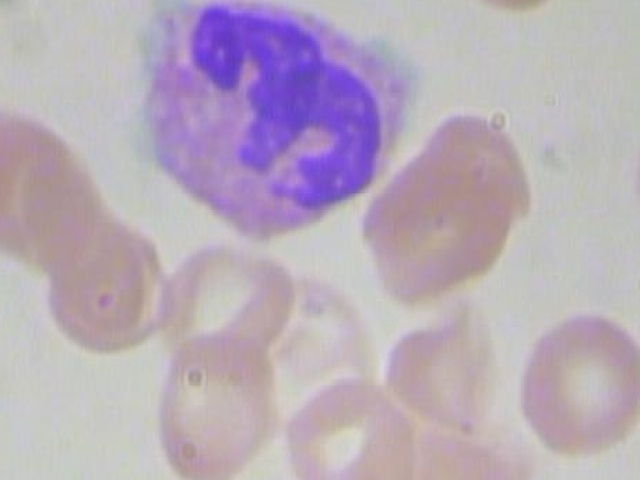RBC: (358, 104, 543, 311), (144, 329, 284, 480), (511, 298, 640, 459), (42, 210, 181, 350), (278, 365, 418, 480), (433, 0, 590, 22), (634, 109, 640, 249)
WBC: (124, 0, 449, 248)
